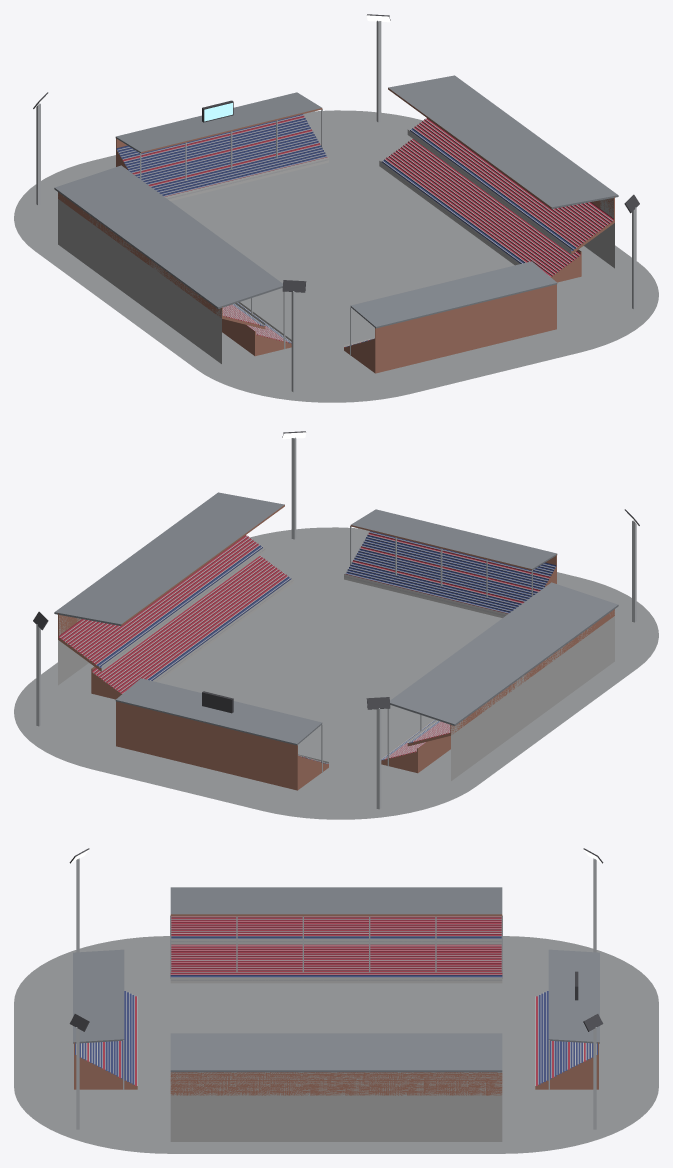
File: old_fortress.glb
3 renders of one model, top to bottom at view 1: azimuth 30°, elevation 25°; view 2: azimuth 150°, elevation 25°; view 3: azimuth 270°, elevation 25°, orthographic.
Parts seen in each view (by area): view 1: Shell_Ground, Shell_Stands, Shell_Roof, COL_Shell_Stands; view 2: Shell_Ground, Shell_Stands, Shell_Roof, COL_Shell_Stands; view 3: Shell_Ground, Shell_Stands, Shell_Roof, COL_Shell_Stands.
Part boxes in pixels (x1,y1,x2,y2): Shell_Ground: (14, 110, 658, 402); Shell_Stands: (58, 114, 614, 373); Shell_Roof: (33, 14, 639, 392); COL_Shell_Stands: (58, 193, 614, 363); Shell_Ground: (14, 527, 658, 819); Shell_Stands: (58, 531, 614, 790); Shell_Roof: (33, 431, 639, 809); COL_Shell_Stands: (58, 611, 614, 780); Shell_Ground: (14, 936, 658, 1153); Shell_Stands: (74, 916, 598, 1095); Shell_Roof: (69, 848, 603, 1129); COL_Shell_Stands: (170, 1072, 502, 1141).
Bounding box in the file's own units: 156 × 36.7 × 195.
